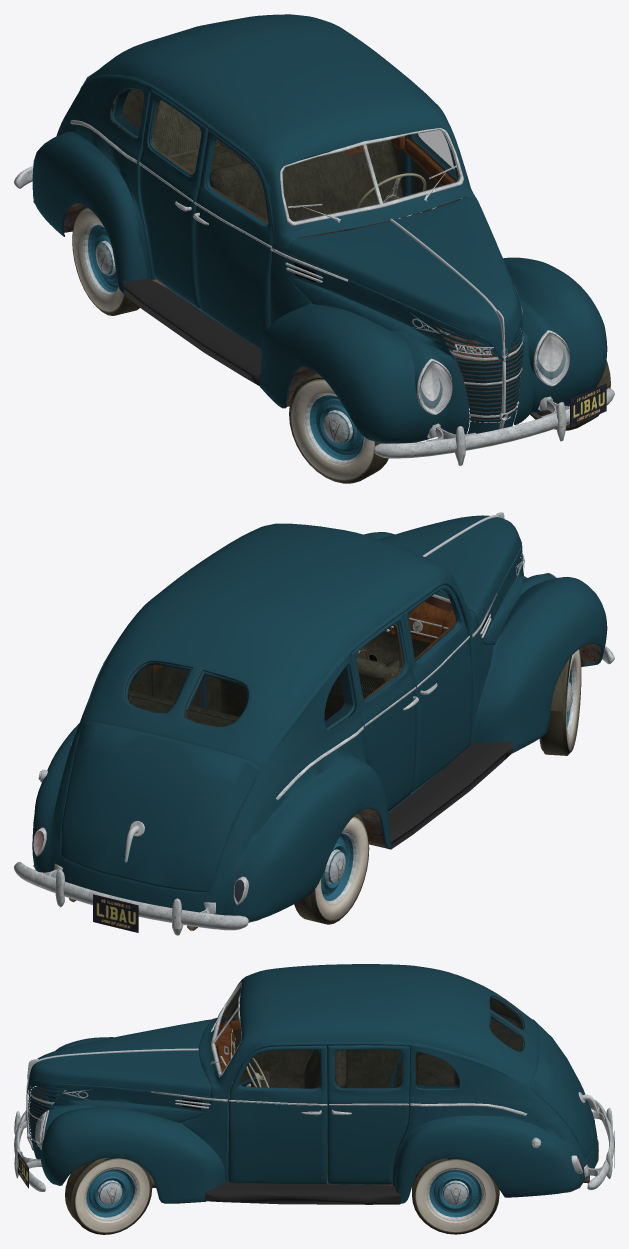
Rendered from classic_car.glb.
The picture shows the model from 3 angles, top to bottom: view 1: azimuth 30°, elevation 25°; view 2: azimuth 150°, elevation 25°; view 3: azimuth 270°, elevation 25°; orthographic projection. The views are drawn at different scales.
Parts seen in each view (by area): view 1: seat.071_9, seat.070_7, bonnet.001_1, body.139_17, seat.150_16, body.140_18, seat.073_12, Cylinder.565_5, seat.146_13, seat.148_14, Cylinder.564_4, seat.151_19 (+5 smaller); view 2: seat.071_9, body.138_0, seat.070_7, body.139_17, bonnet.001_1, body.140_18, seat.146_13, Cylinder.564_4, seat.152_20, Cylinder.565_5, seat.073_12, packardplatesand badges.001_23 (+3 smaller); view 3: seat.071_9, body.001_21, body.143_8, seat.070_7, bonnet.001_1, Cylinder.563_3, Cylinder.566_6, body.138_0, seat.146_13, seat.073_12, body.140_18, body.139_17 (+5 smaller).
Part boxes in pixels (x1,y1,x2,y2): seat.071_9: [32, 14, 607, 443]; seat.070_7: [26, 88, 569, 441]; bonnet.001_1: [288, 195, 521, 361]; body.139_17: [193, 129, 272, 349]; seat.150_16: [283, 130, 459, 220]; body.140_18: [138, 89, 208, 308]; seat.073_12: [287, 253, 533, 434]; Cylinder.565_5: [289, 373, 388, 483]; seat.146_13: [123, 278, 261, 385]; seat.148_14: [392, 300, 569, 414]; Cylinder.564_4: [72, 205, 139, 315]; seat.151_19: [374, 388, 614, 465]; seat.071_9: [32, 523, 607, 921]; body.138_0: [60, 721, 260, 891]; seat.070_7: [33, 551, 524, 930]; body.139_17: [403, 585, 472, 791]; bonnet.001_1: [379, 512, 521, 623]; body.140_18: [352, 613, 418, 811]; seat.146_13: [369, 740, 512, 849]; Cylinder.564_4: [294, 814, 369, 924]; seat.152_20: [14, 862, 248, 935]; Cylinder.565_5: [539, 649, 581, 755]; seat.073_12: [478, 542, 526, 645]; packardplatesand badges.001_23: [93, 894, 138, 932]; seat.071_9: [41, 964, 597, 1203]; body.001_21: [228, 1045, 327, 1183]; body.143_8: [327, 1045, 409, 1184]; seat.070_7: [20, 987, 604, 1199]; bonnet.001_1: [26, 1019, 211, 1096]; Cylinder.563_3: [65, 1157, 152, 1234]; Cylinder.566_6: [412, 1158, 499, 1234]; body.138_0: [530, 1019, 598, 1157]; seat.146_13: [204, 1181, 400, 1204]; seat.073_12: [28, 1082, 210, 1122]; body.140_18: [346, 1049, 402, 1088]; body.139_17: [230, 1004, 313, 1086].
Size of the model in its own units: 2.16 by 2.05 by 5.42.
Materials: 17 (9 with a texture image).
